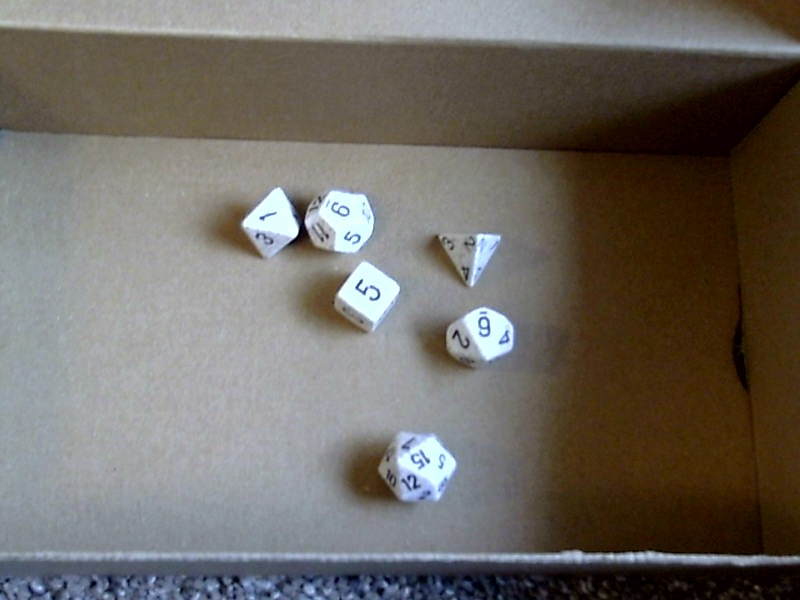d10 6: (443, 305, 517, 369)
d12 9: (304, 183, 375, 255)
d20 15: (371, 424, 457, 506)
d4 2: (432, 228, 508, 289)
d6 5: (329, 259, 407, 334)
d8 1: (232, 181, 303, 266)
